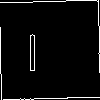I: (25, 24, 40, 72)
